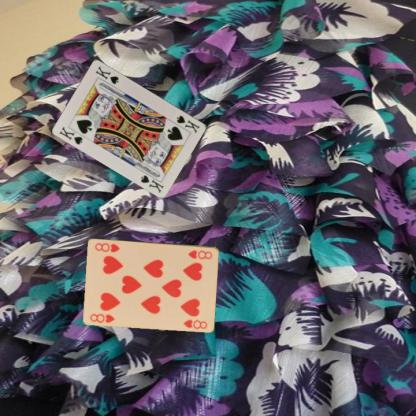8h: (87, 311, 116, 324), (185, 247, 213, 260)
Ks: (173, 112, 201, 134), (57, 124, 84, 146)
